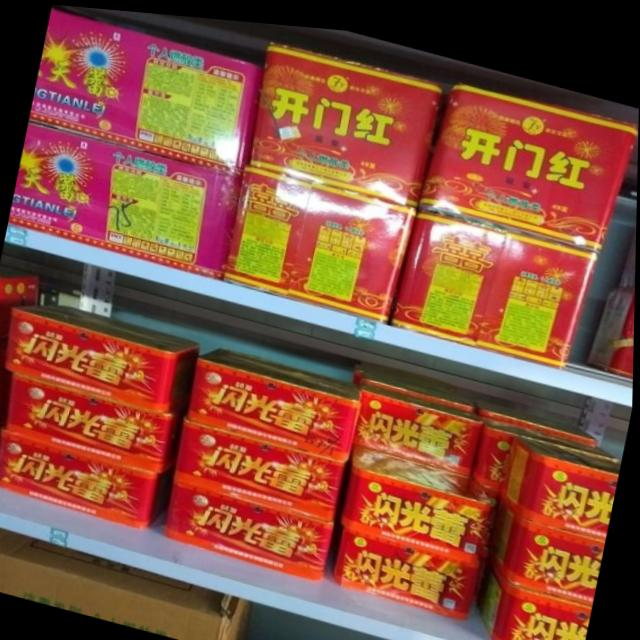box: (417, 71, 639, 243), (29, 9, 262, 172), (8, 120, 243, 275), (388, 201, 600, 359), (246, 36, 443, 201), (221, 159, 416, 316), (5, 305, 201, 411), (335, 439, 505, 556), (186, 343, 362, 456), (7, 371, 188, 469), (0, 428, 177, 528), (175, 415, 350, 516), (163, 477, 337, 576), (336, 519, 486, 614), (505, 425, 621, 528), (353, 375, 481, 467), (492, 492, 607, 594), (475, 402, 620, 477), (487, 558, 593, 640)
